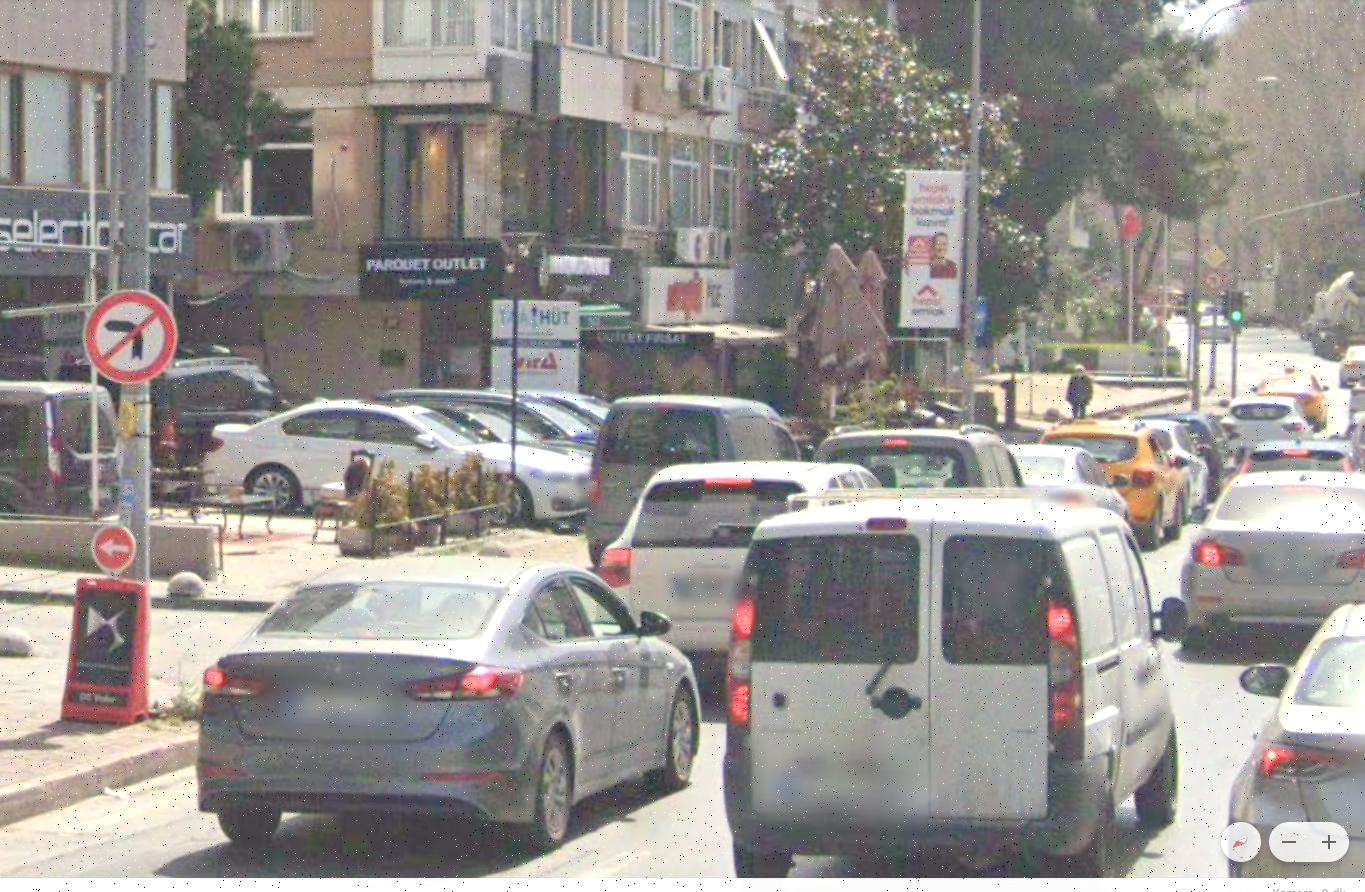greenlight: (1229, 290, 1244, 334)
leftturnsareforbidden: (91, 288, 176, 377), (1205, 269, 1225, 289)
